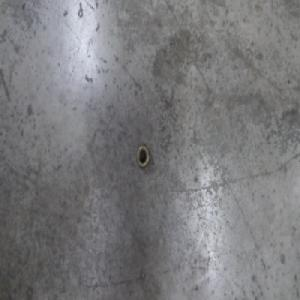Nut: (136, 143, 150, 171)
